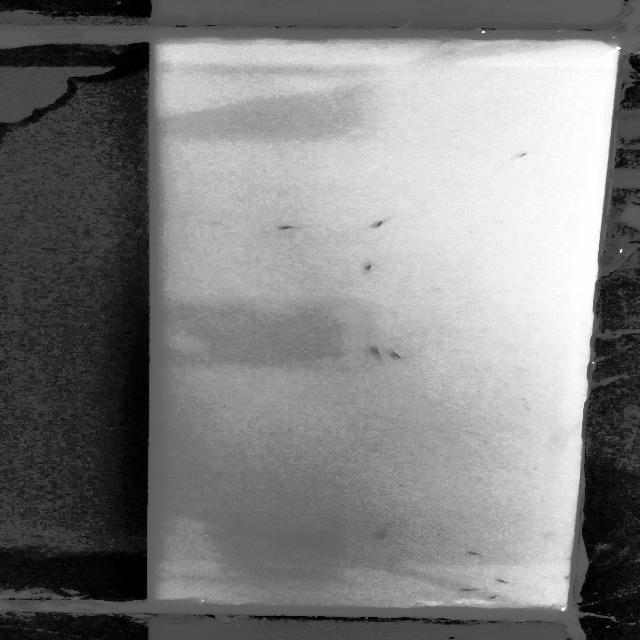shrimp: (266, 220, 310, 233), (383, 347, 415, 361), (463, 546, 492, 561), (515, 148, 538, 166), (366, 217, 394, 230), (461, 585, 485, 597), (359, 263, 382, 273), (493, 575, 512, 587), (366, 344, 386, 355), (490, 592, 506, 604), (375, 530, 396, 539)
